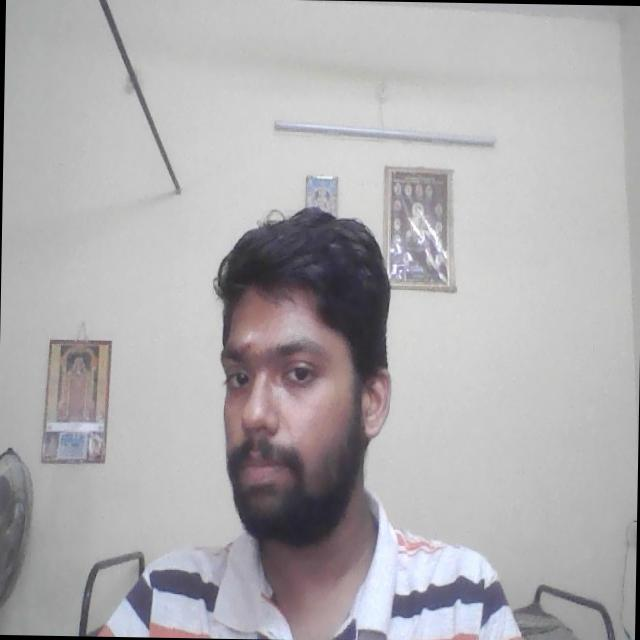Focused: (216, 303, 352, 507)
